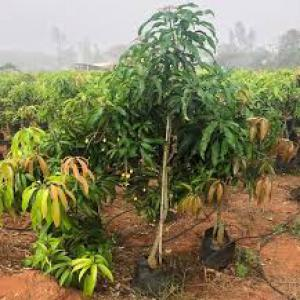Tree: (91, 4, 250, 258)
